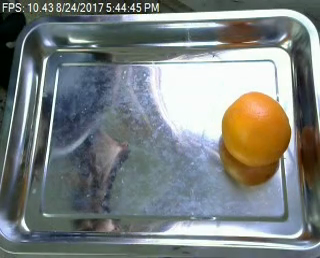Orange: (221, 90, 293, 167)
